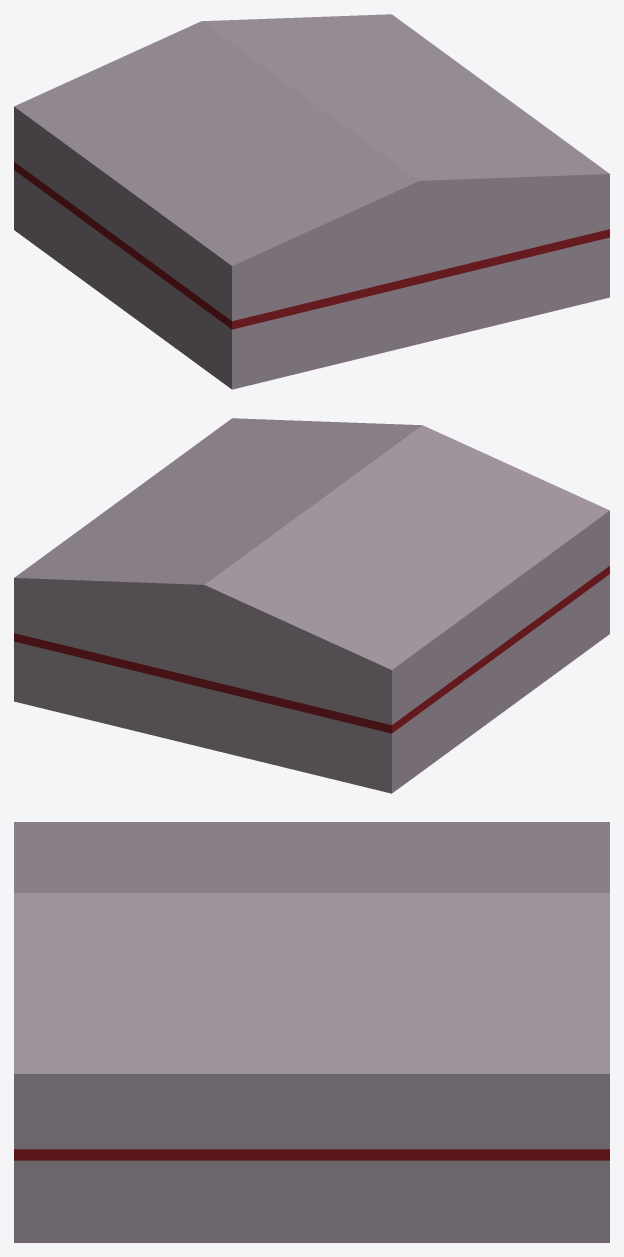
Rendered from Building-Warehouse.fbx.
3 views of the same model, one above another, from view 1: azimuth 30°, elevation 25°; view 2: azimuth 150°, elevation 25°; view 3: azimuth 270°, elevation 25° (orthographic). The views are drawn at different scales.
Parts seen in each view (by area): view 1: Cube; view 2: Cube; view 3: Cube.
Part boxes in pixels (bbox=[...]): Cube: bbox=[14, 14, 609, 389]; Cube: bbox=[14, 418, 609, 793]; Cube: bbox=[14, 822, 609, 1242].
Size of the model in its own units: 20 by 8.25 by 20.
